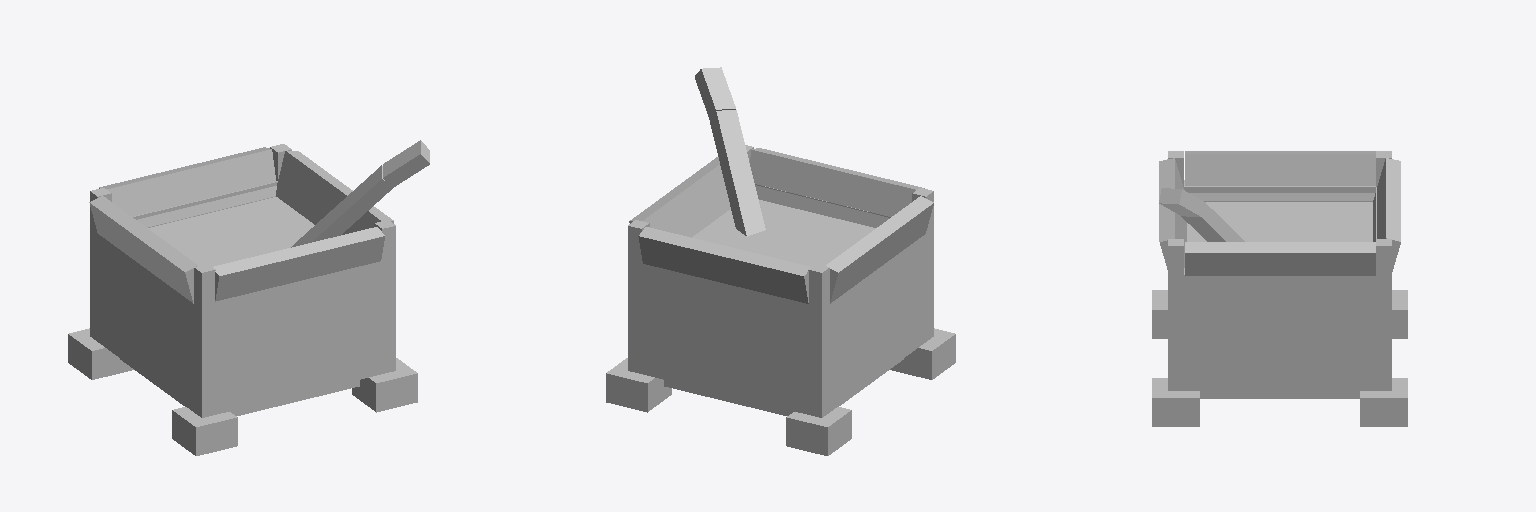
The model's file is qozon2.obj.
3 views of the same model, side by side, from view 1: azimuth 30°, elevation 25°; view 2: azimuth 150°, elevation 25°; view 3: azimuth 270°, elevation 25° (orthographic).
Visible parts, largest first — view 1: cube, potion; view 2: cube, potion; view 3: cube, potion.
Boxes of the visible parts, <box> form: cube: <box>68,140,429,455</box>; potion: <box>148,197,314,266</box>; cube: <box>606,67,955,455</box>; potion: <box>692,200,875,266</box>; cube: <box>1152,151,1407,426</box>; potion: <box>1187,202,1372,241</box>.
Bounding box in the file's own units: 1.12 × 1.06 × 1.